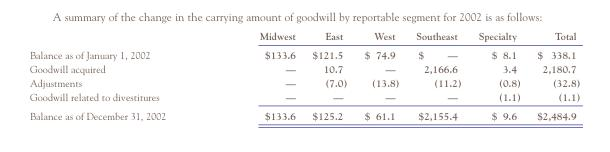table: (28, 29, 579, 120)
table column: (28, 29, 212, 120), (212, 29, 303, 120), (406, 29, 469, 120), (469, 29, 528, 120), (303, 29, 355, 120), (355, 29, 406, 120), (528, 29, 579, 120)
table column header: (28, 29, 579, 44)
table row: (28, 44, 579, 61), (28, 88, 579, 105), (28, 29, 579, 44), (28, 105, 579, 120), (28, 61, 579, 75), (28, 75, 579, 88)
